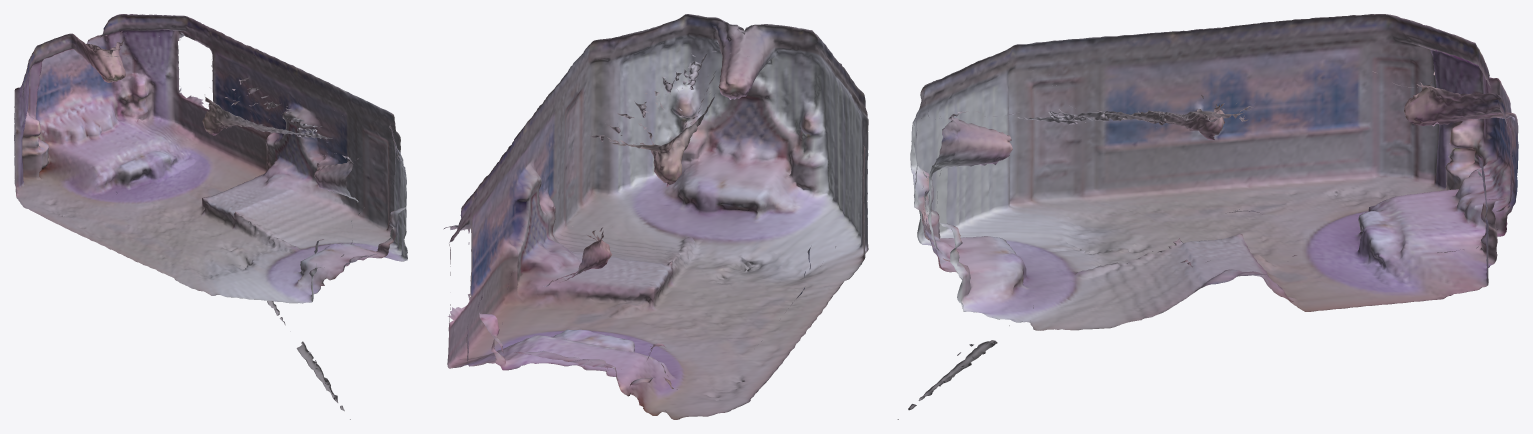
The model's file is swan-lake-suite-1-1_collider.glb.
3 renders of one model, left to right at view 1: azimuth 30°, elevation 25°; view 2: azimuth 150°, elevation 25°; view 3: azimuth 270°, elevation 25°, orthographic. The views are drawn at different scales.
Parts seen in each view (by area): view 1: world; view 2: world; view 3: world.
Boxes of the visible parts, left/top/right/bottom form: world: left=14, top=14, right=407, bottom=419; world: left=443, top=14, right=868, bottom=419; world: left=897, top=14, right=1518, bottom=419.
Size of the model in its own units: 6.55 by 6.14 by 10.63.
